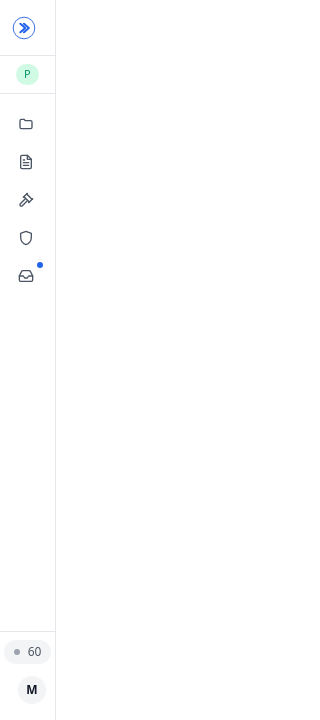
Test: ProductSidebar › exibe badge numérico destacado quando inboxCount > 0
Hover over the element with test id "app-sidebar".
mouse_move(28, 360)  # box top-left (0, 0), bottom-right (56, 719)
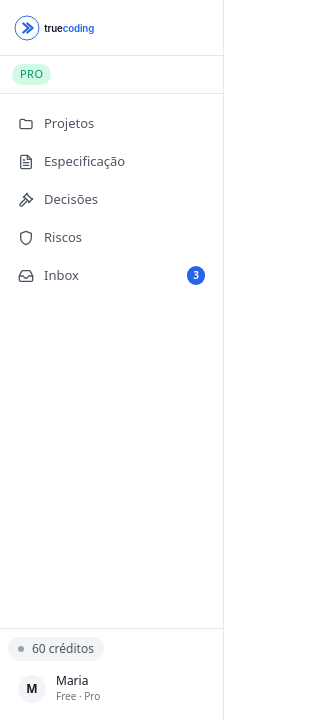
Result: the text with test id "count-inbox" reads "3" at top-left (193, 268), bottom-right (199, 282)
